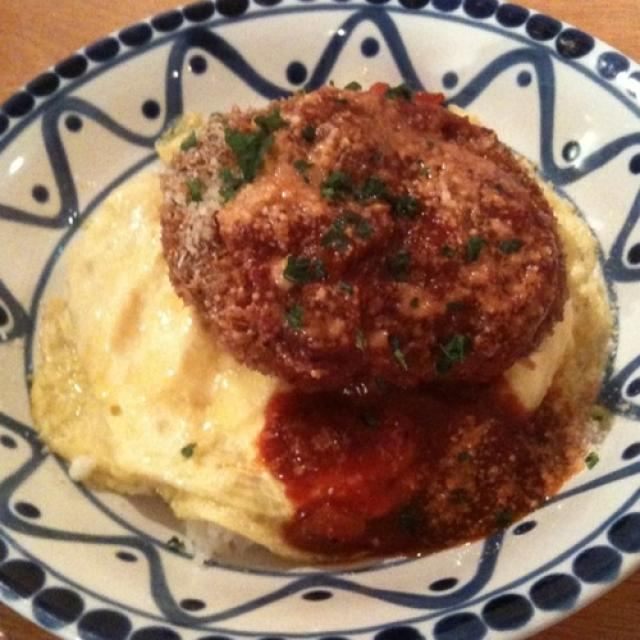炸货点心: (4, 10, 634, 634)
